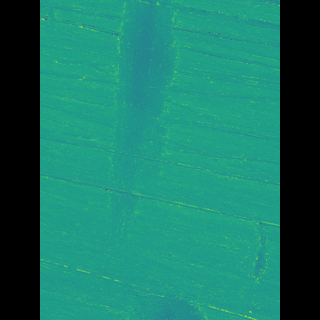Loch: (117, 0, 179, 247)
